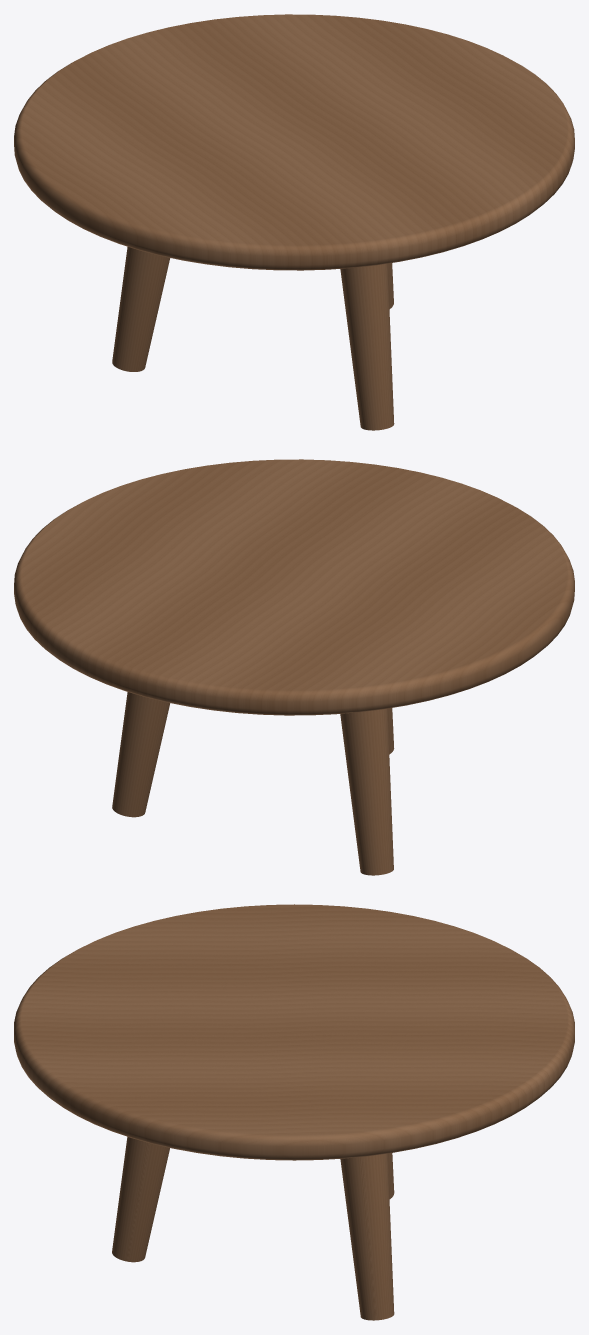
The model's file is table_walnut_mobile.glb.
3 views of the same model, one above another, from view 1: azimuth 30°, elevation 25°; view 2: azimuth 150°, elevation 25°; view 3: azimuth 270°, elevation 25° (orthographic).
Parts seen in each view (by area): view 1: rounded_solid_walnut_top, tapered_splayed_leg_3, tapered_splayed_leg_2; view 2: rounded_solid_walnut_top, tapered_splayed_leg_2, tapered_splayed_leg_1; view 3: rounded_solid_walnut_top, tapered_splayed_leg_1, tapered_splayed_leg_3.
Part boxes in pixels (box(x1,y1,x2,y2)): rounded_solid_walnut_top: box(14, 14, 574, 270); tapered_splayed_leg_3: box(340, 263, 394, 430); tapered_splayed_leg_2: box(112, 247, 170, 371); rounded_solid_walnut_top: box(14, 459, 574, 715); tapered_splayed_leg_2: box(340, 708, 393, 875); tapered_splayed_leg_1: box(112, 692, 170, 817); rounded_solid_walnut_top: box(14, 904, 574, 1160); tapered_splayed_leg_1: box(340, 1153, 394, 1320); tapered_splayed_leg_3: box(112, 1136, 169, 1262).
Size of the model in its own units: 0.9 by 0.42 by 0.9.
Materials: 1 (1 with a texture image).
